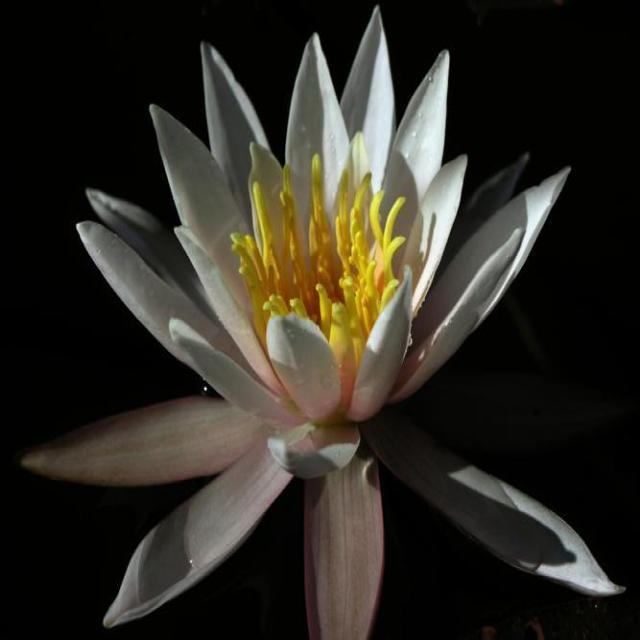rose: (21, 31, 608, 640)
